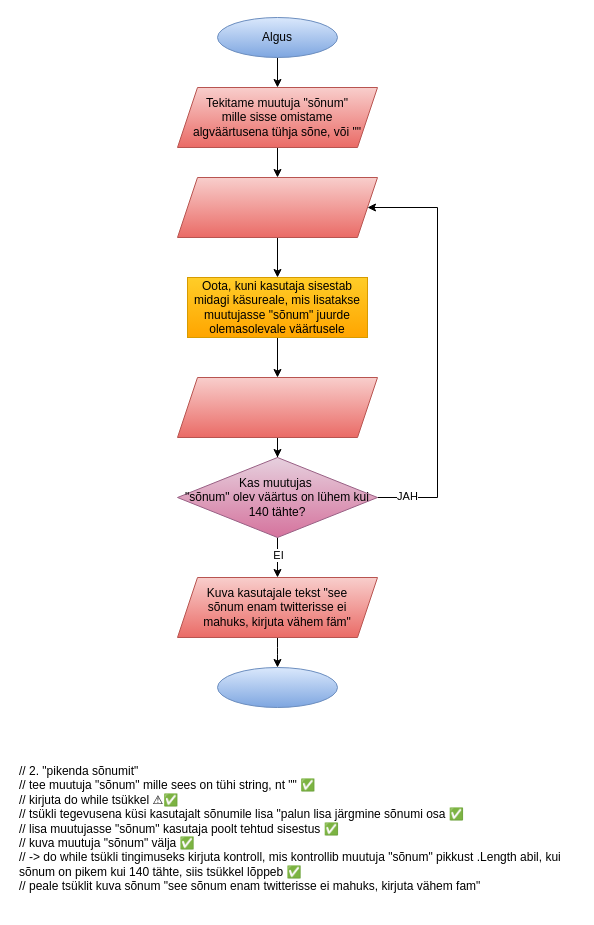
Some shapes in this 594 by 925 pixel diagram are drawn without their labels. The shapes that lost their labels are listed below. From the top down, each one's centre as x and y in pixels, then its label:
(x=277, y=207): Kuva kasutajale tekst: "Palun lisa järgmine sõnumi osa"
(x=277, y=407): Kuva kasutajale muutujas "sõnum" olev väärtus.
(x=277, y=687): Lõpp
